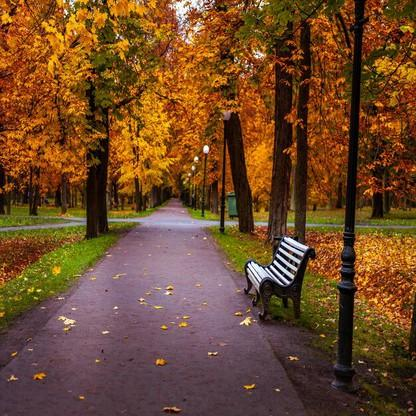obstacle: (234, 222, 320, 320)
